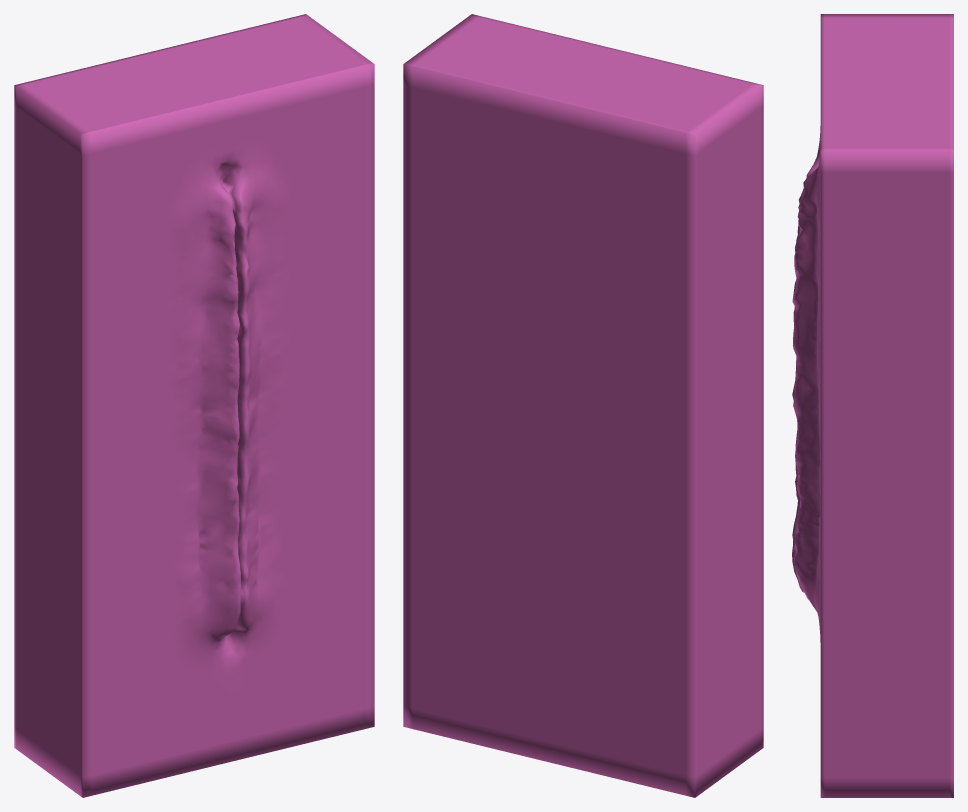
Rendered from Phantom.OBJ.
The picture shows the model from 3 angles, left to right: view 1: azimuth 30°, elevation 25°; view 2: azimuth 150°, elevation 25°; view 3: azimuth 270°, elevation 25°; orthographic projection. The views are drawn at different scales.
Visible parts, largest first — view 1: /ambf/env/Phantom_New_Phantom; view 2: /ambf/env/Phantom_New_Phantom; view 3: /ambf/env/Phantom_New_Phantom.
Boxes of the visible parts, box(x1,y1,x2,y2) form: /ambf/env/Phantom_New_Phantom: box(14, 14, 374, 797); /ambf/env/Phantom_New_Phantom: box(403, 14, 763, 797); /ambf/env/Phantom_New_Phantom: box(792, 14, 953, 797).
Size of the model in its own units: 0.797 by 1.73 by 0.3934.
